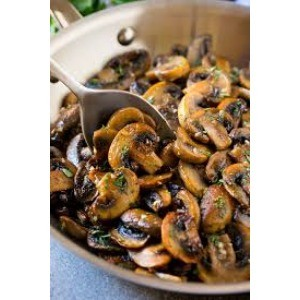mushroom_brain food: (94, 122, 244, 227)
